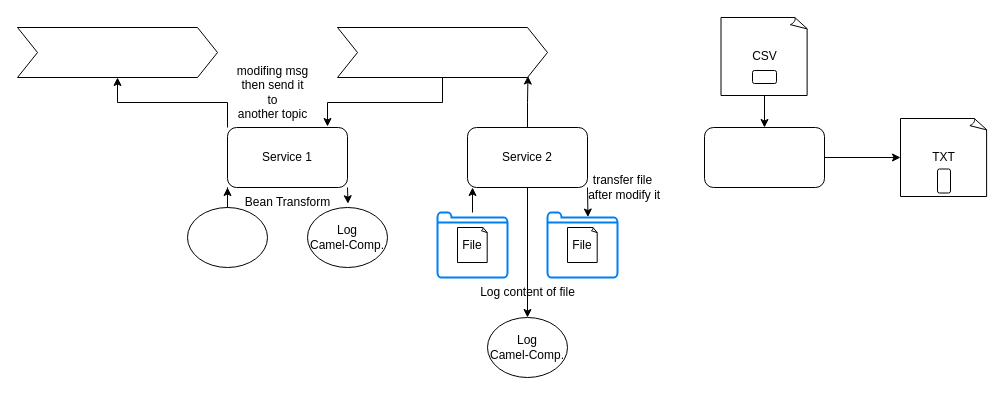
This 1005x395 diagram has some shape labels left out. Here are the shapes that lost their labels. From the top down, the centre of each, then its label:
pixel 117 52: Another-Kafka-topic
pixel 442 52: Kafka-topic
pixel 764 157: Service 3
pixel 227 237: Timer Camel-Comp.
